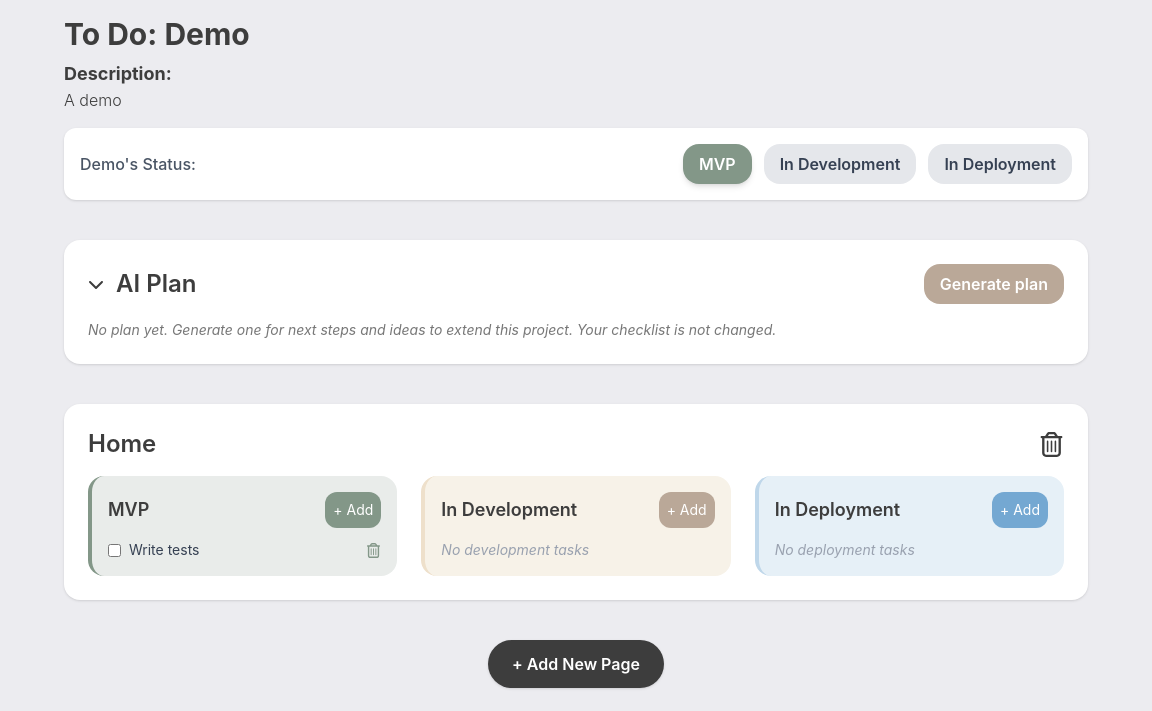
Test: ProjectDetail › changing status confirms first, then PATCHes the status code as JSON
Expected: the heading "To Do: Demo" is shown, top-left (64, 16), bottom-right (250, 52)
Click the button "In Development" at (840, 164), box top-left (764, 144), bottom-right (916, 184)
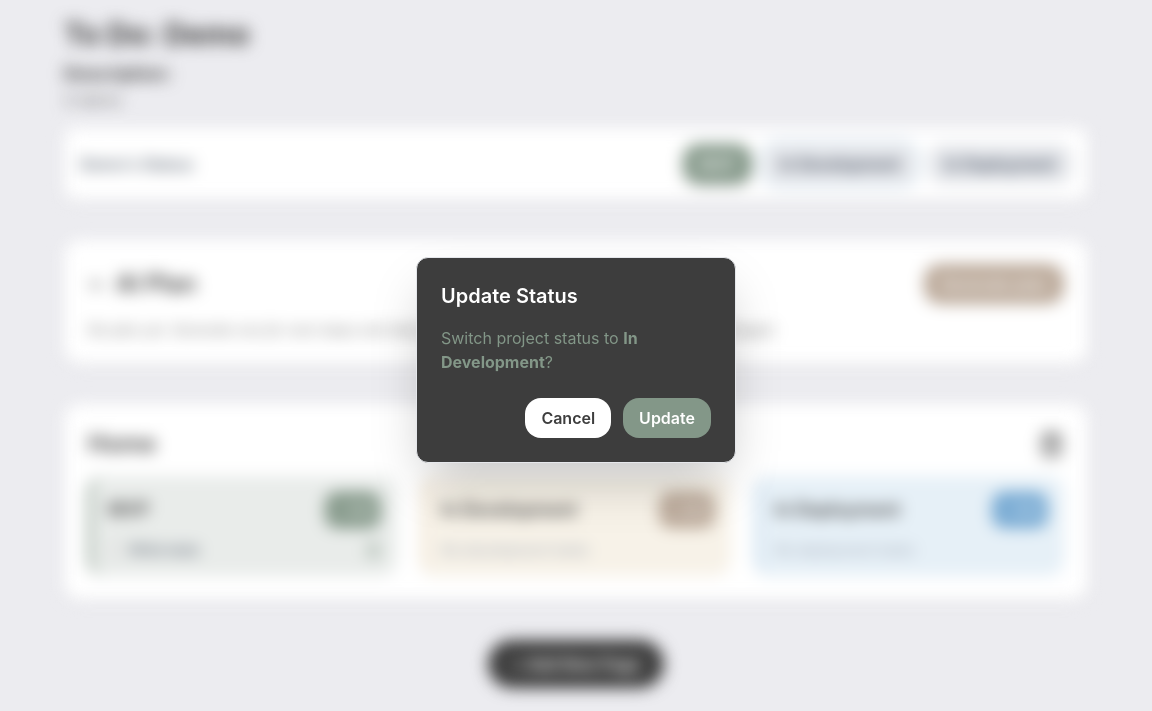
Click the button "Update" at (667, 418), box top-left (623, 398), bottom-right (711, 438)
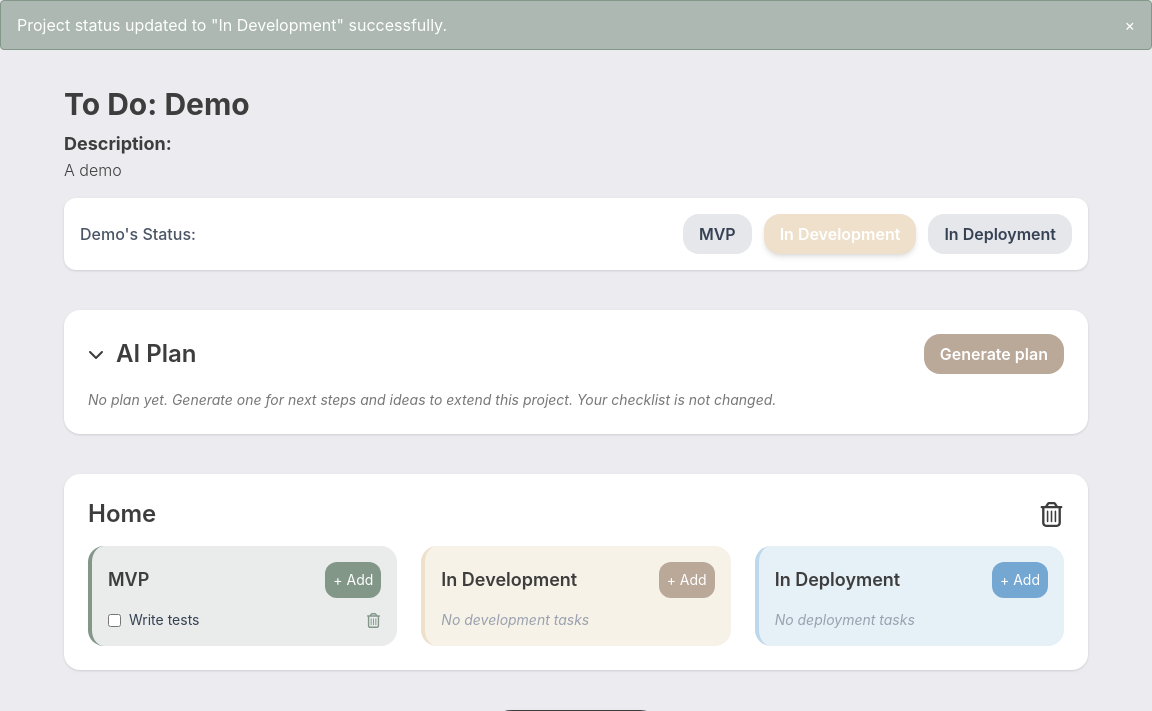
Result: the text "Project status updated to \"In Development\" successfully. ×" is shown at top-left (0, 0), bottom-right (1151, 50)
